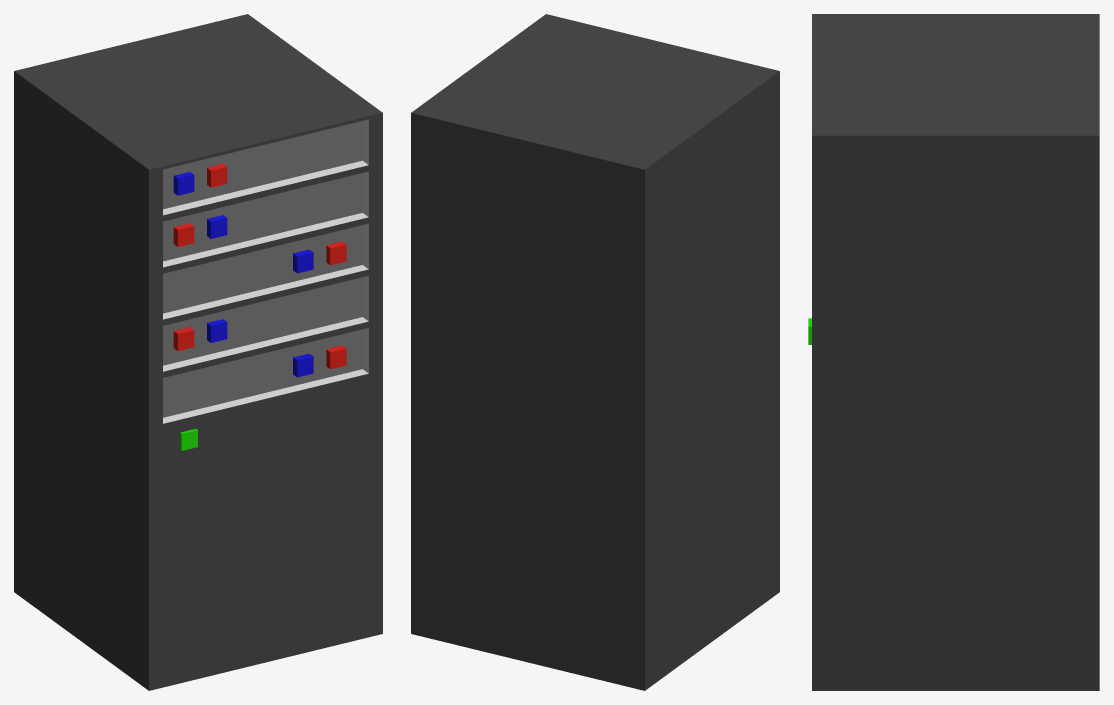
File: (YnZp)ServidorLowPolly.fbx
3 views of the same model, side by side, from view 1: azimuth 30°, elevation 25°; view 2: azimuth 150°, elevation 25°; view 3: azimuth 270°, elevation 25° (orthographic). The views are drawn at different scales.
Parts seen in each view (by area): view 1: Cube; view 2: Cube; view 3: Cube.
Part boxes in pixels (box(x1,y1,x2,y2)): Cube: box(14, 14, 382, 690); Cube: box(411, 14, 779, 690); Cube: box(808, 14, 1099, 690).
Size of the model in its own units: 353 by 357 by 751.
